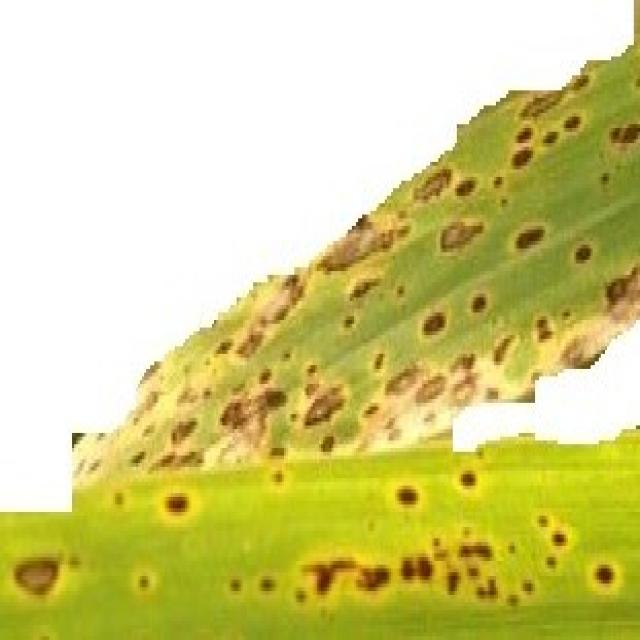brown spot: (318, 202, 420, 279), (0, 547, 97, 613), (282, 533, 361, 610), (208, 374, 291, 430), (501, 209, 556, 273), (580, 545, 629, 610), (347, 548, 394, 610), (302, 376, 353, 432), (434, 213, 492, 262), (559, 222, 605, 280), (260, 272, 305, 328), (395, 544, 436, 603), (447, 346, 483, 413), (599, 102, 640, 160), (406, 164, 460, 208), (382, 476, 430, 522), (338, 265, 389, 308), (448, 453, 490, 505), (406, 303, 459, 343), (154, 484, 204, 526), (502, 570, 544, 620), (565, 52, 601, 108), (346, 392, 399, 430), (251, 554, 284, 615), (146, 442, 215, 470), (124, 557, 164, 604), (451, 526, 499, 565), (415, 363, 450, 416), (462, 276, 496, 330), (130, 378, 166, 429), (535, 113, 568, 166), (210, 317, 242, 369), (230, 320, 268, 363), (384, 366, 427, 404), (488, 325, 522, 372), (385, 263, 415, 314), (310, 420, 347, 460), (445, 168, 485, 204), (484, 165, 516, 210), (602, 264, 633, 310), (508, 138, 539, 184), (559, 103, 590, 149), (329, 300, 364, 340), (105, 480, 136, 523), (529, 308, 560, 351), (165, 406, 202, 442), (369, 331, 394, 384), (261, 459, 292, 500), (546, 513, 576, 554), (223, 565, 255, 603), (472, 572, 501, 610), (425, 520, 448, 566), (125, 438, 151, 477), (530, 500, 556, 536), (441, 560, 462, 604), (513, 114, 536, 152), (593, 164, 622, 194), (538, 548, 565, 578), (300, 357, 326, 386), (276, 339, 300, 370), (86, 458, 106, 483)
